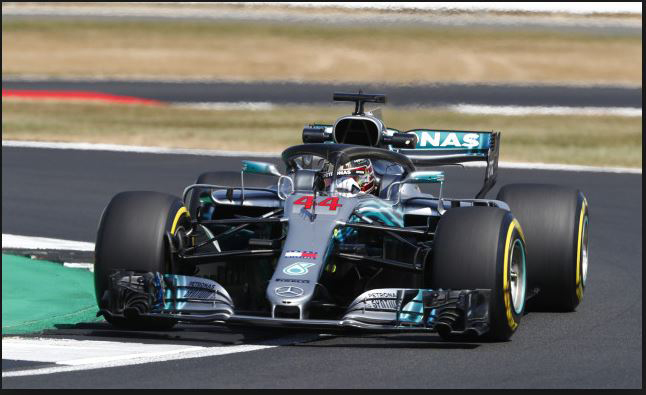F1 Car: (88, 87, 595, 345)
